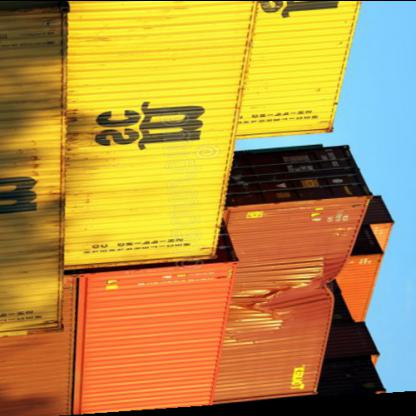Damage: (242, 262, 342, 332)
